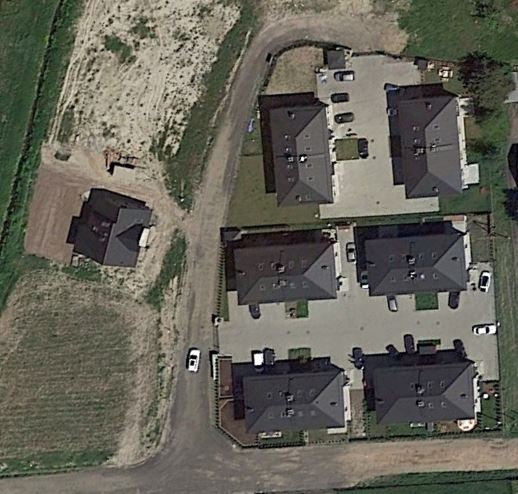block of flats: (370, 359, 486, 428), (238, 368, 353, 437), (396, 94, 467, 200), (363, 230, 469, 300), (230, 239, 338, 307), (268, 104, 336, 209)
family house: (65, 191, 155, 269)
